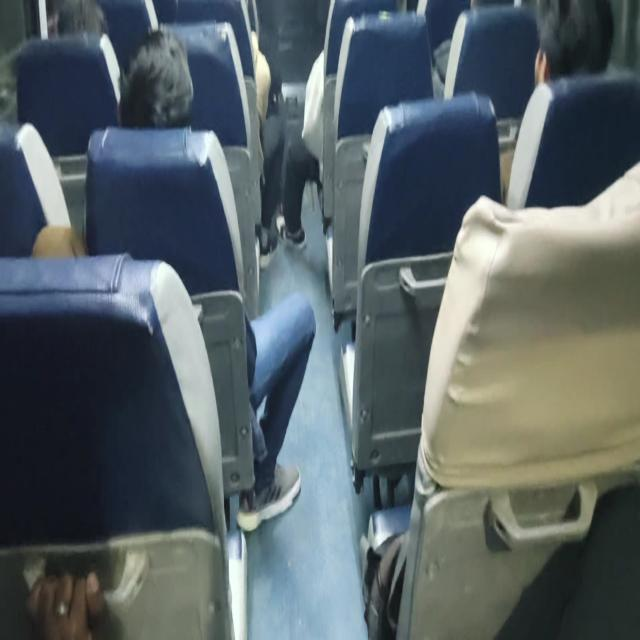person: (512, 0, 624, 83), (130, 40, 206, 146), (47, 0, 103, 49)
